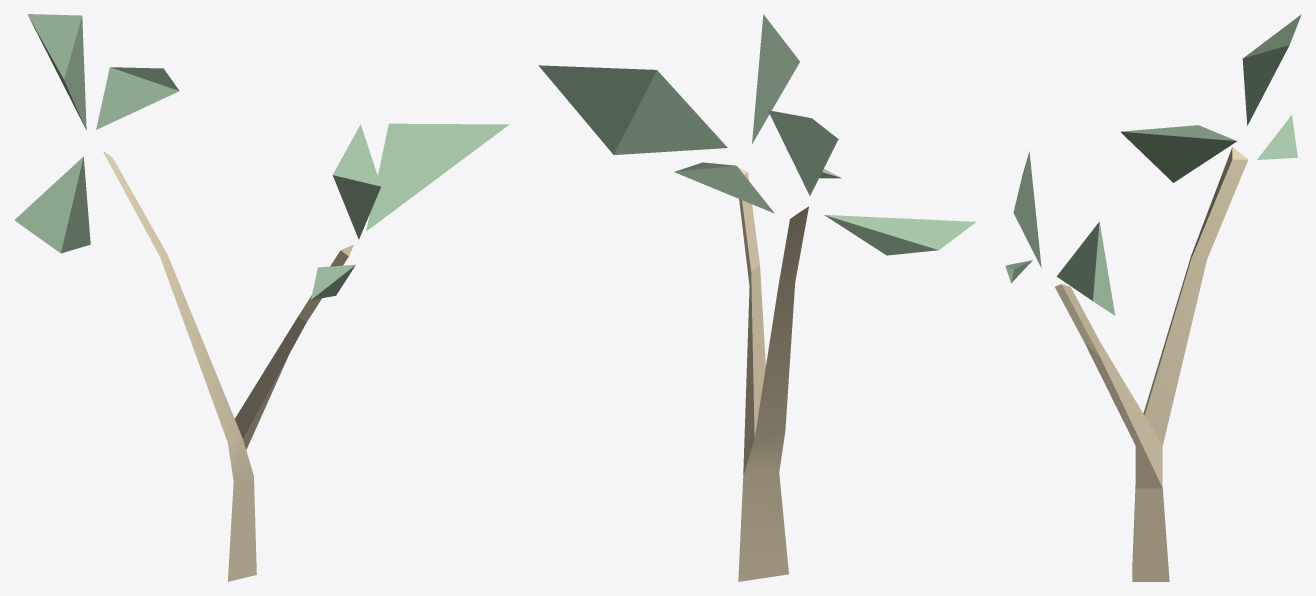
3 views of the same model, side by side, from view 1: azimuth 30°, elevation 25°; view 2: azimuth 150°, elevation 25°; view 3: azimuth 270°, elevation 25° (orthographic). The views are drawn at different scales.
Parts seen in each view (by area): view 1: Box077, Triangle072, Triangle111, Triangle110, Triangle109, Triangle107, Triangle108; view 2: Box077, Triangle072, Triangle111, Triangle110, Triangle107, Triangle109; view 3: Box077, Triangle111, Triangle072, Triangle110, Triangle107, Triangle109.
Part boxes in pixels (bbox=[...]): Box077: bbox=[103, 152, 353, 581]; Triangle072: bbox=[366, 123, 509, 231]; Triangle111: bbox=[14, 156, 90, 253]; Triangle110: bbox=[27, 14, 86, 130]; Triangle109: bbox=[96, 67, 179, 129]; Triangle107: bbox=[332, 124, 381, 239]; Triangle108: bbox=[311, 264, 355, 299]; Box077: bbox=[735, 165, 808, 581]; Triangle072: bbox=[538, 65, 727, 154]; Triangle111: bbox=[824, 215, 975, 255]; Triangle110: bbox=[768, 110, 838, 195]; Triangle107: bbox=[752, 14, 799, 143]; Triangle109: bbox=[674, 162, 774, 213]; Box077: bbox=[1055, 147, 1248, 581]; Triangle111: bbox=[1120, 125, 1236, 182]; Triangle072: bbox=[1057, 221, 1115, 315]; Triangle110: bbox=[1242, 14, 1301, 125]; Triangle107: bbox=[1013, 151, 1041, 267]; Triangle109: bbox=[1257, 115, 1297, 159].
Bounding box in the file's own units: 11.67 × 13.43 × 7.18.
